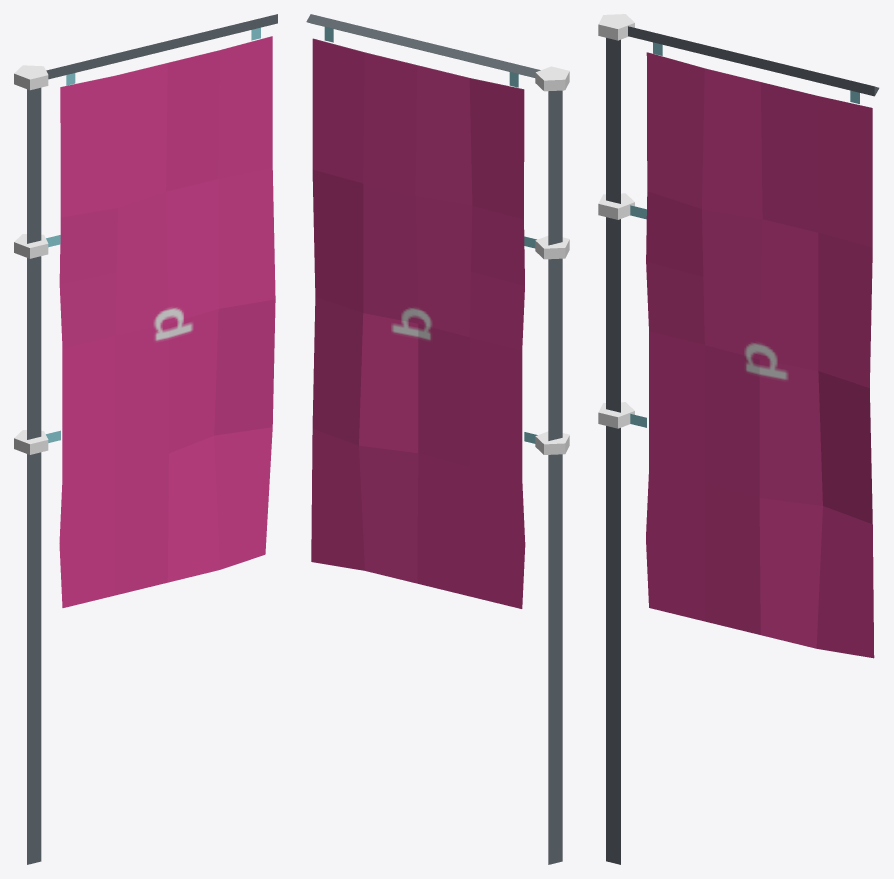
The model's file is hatad.fbx.
The picture shows the model from 3 angles, left to right: view 1: azimuth 30°, elevation 25°; view 2: azimuth 150°, elevation 25°; view 3: azimuth 330°, elevation 25°; orthographic projection. The views are drawn at different scales.
Parts seen in each view (by area): view 1: 平面, 円柱, 円柱.004, 円柱.003, 円柱.001, 円柱.002; view 2: 平面, 円柱, 円柱.004, 円柱.003, 円柱.001, 円柱.002; view 3: 平面, 円柱, 円柱.004, 円柱.003, 円柱.002, 円柱.001.
Boxes of the visible parts, bbox=[...] form: 平面: bbox=[59, 36, 275, 607]; 円柱: bbox=[27, 87, 41, 864]; 円柱.004: bbox=[46, 14, 277, 79]; 円柱.003: bbox=[14, 65, 48, 90]; 円柱.001: bbox=[14, 430, 48, 454]; 円柱.002: bbox=[14, 234, 48, 258]; 平面: bbox=[311, 38, 525, 608]; 円柱: bbox=[548, 90, 562, 864]; 円柱.004: bbox=[306, 14, 540, 77]; 円柱.003: bbox=[535, 66, 569, 91]; 円柱.001: bbox=[535, 431, 569, 454]; 円柱.002: bbox=[535, 236, 569, 259]; 平面: bbox=[646, 52, 874, 658]; 円柱: bbox=[606, 38, 620, 864]; 円柱.004: bbox=[628, 26, 879, 96]; 円柱.003: bbox=[598, 14, 634, 40]; 円柱.002: bbox=[598, 193, 634, 219]; 円柱.001: bbox=[598, 402, 634, 428].
Size of the model in its own units: 56.98 by 166 by 6.26.
